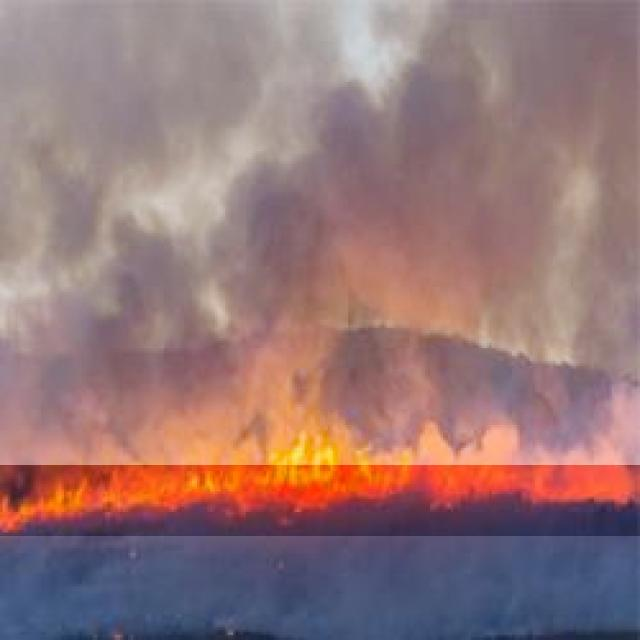Fire: (0, 412, 640, 536)
Smoke: (0, 0, 640, 465)
